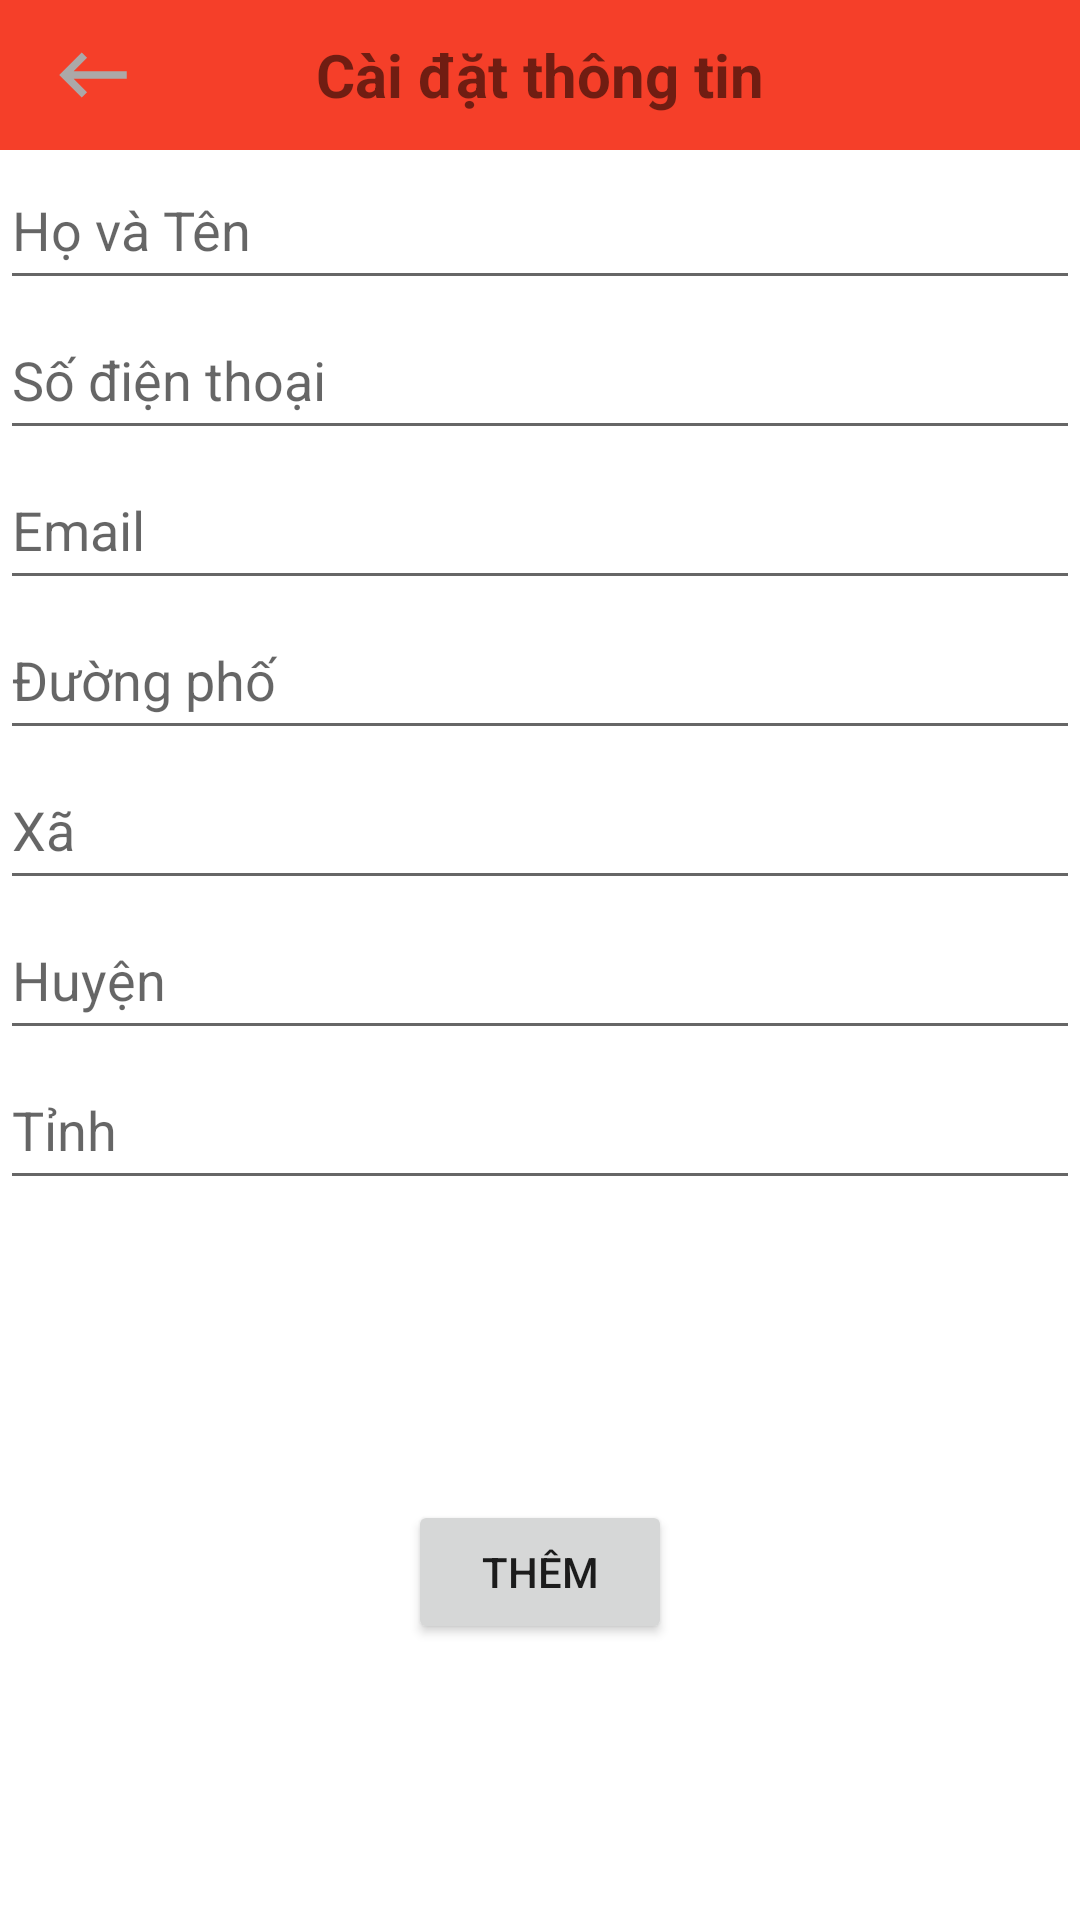

Screen size 1080w x 1920h. Icon name, then its box in pixels as [left=x1, top=y1, right=x2, bottom=y2]:
quaylai: [left=59, top=52, right=127, bottom=98]
